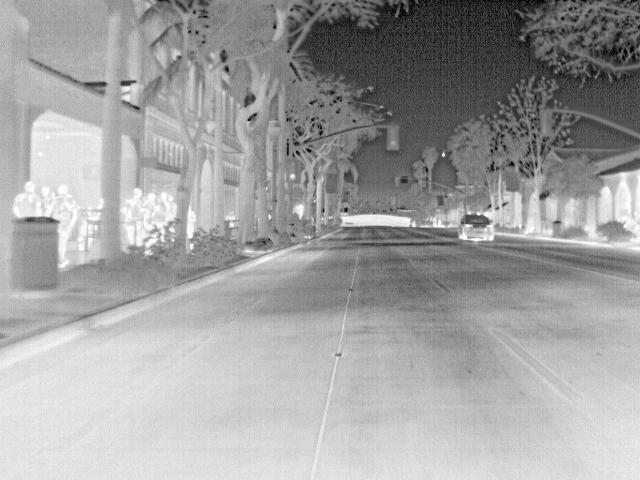car: (459, 214, 497, 242)
person: (53, 180, 80, 267), (12, 182, 42, 218), (125, 186, 147, 225), (38, 184, 56, 216), (185, 203, 197, 241)
